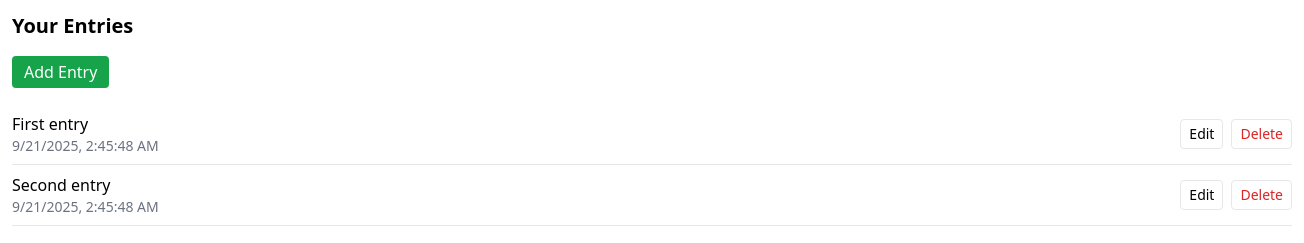
Test case: delete entry from entries list (happy path)
The image size is (1304, 243).
Expected: the element with test id "entry-1" is shown, [12,104,1292,165]
click delete for id 1
Click the button with test id "delete-1": (1262, 134) [1231,119,1292,149]
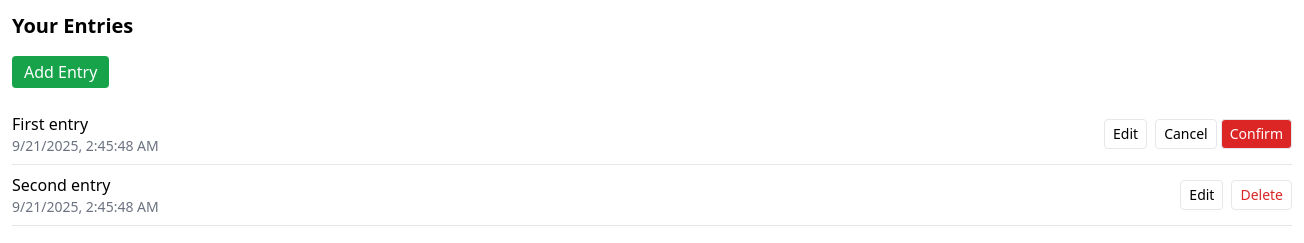
Click the button with test id "confirm-delete-1": (1256, 134) [1221,119,1292,149]
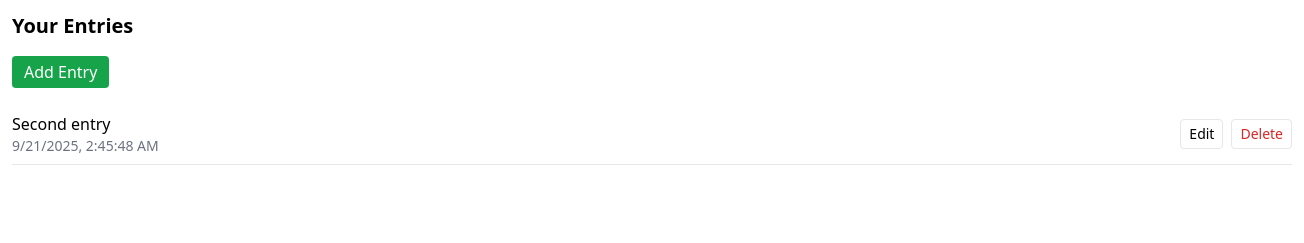
Expected: the element with test id "entry-1" is gone
